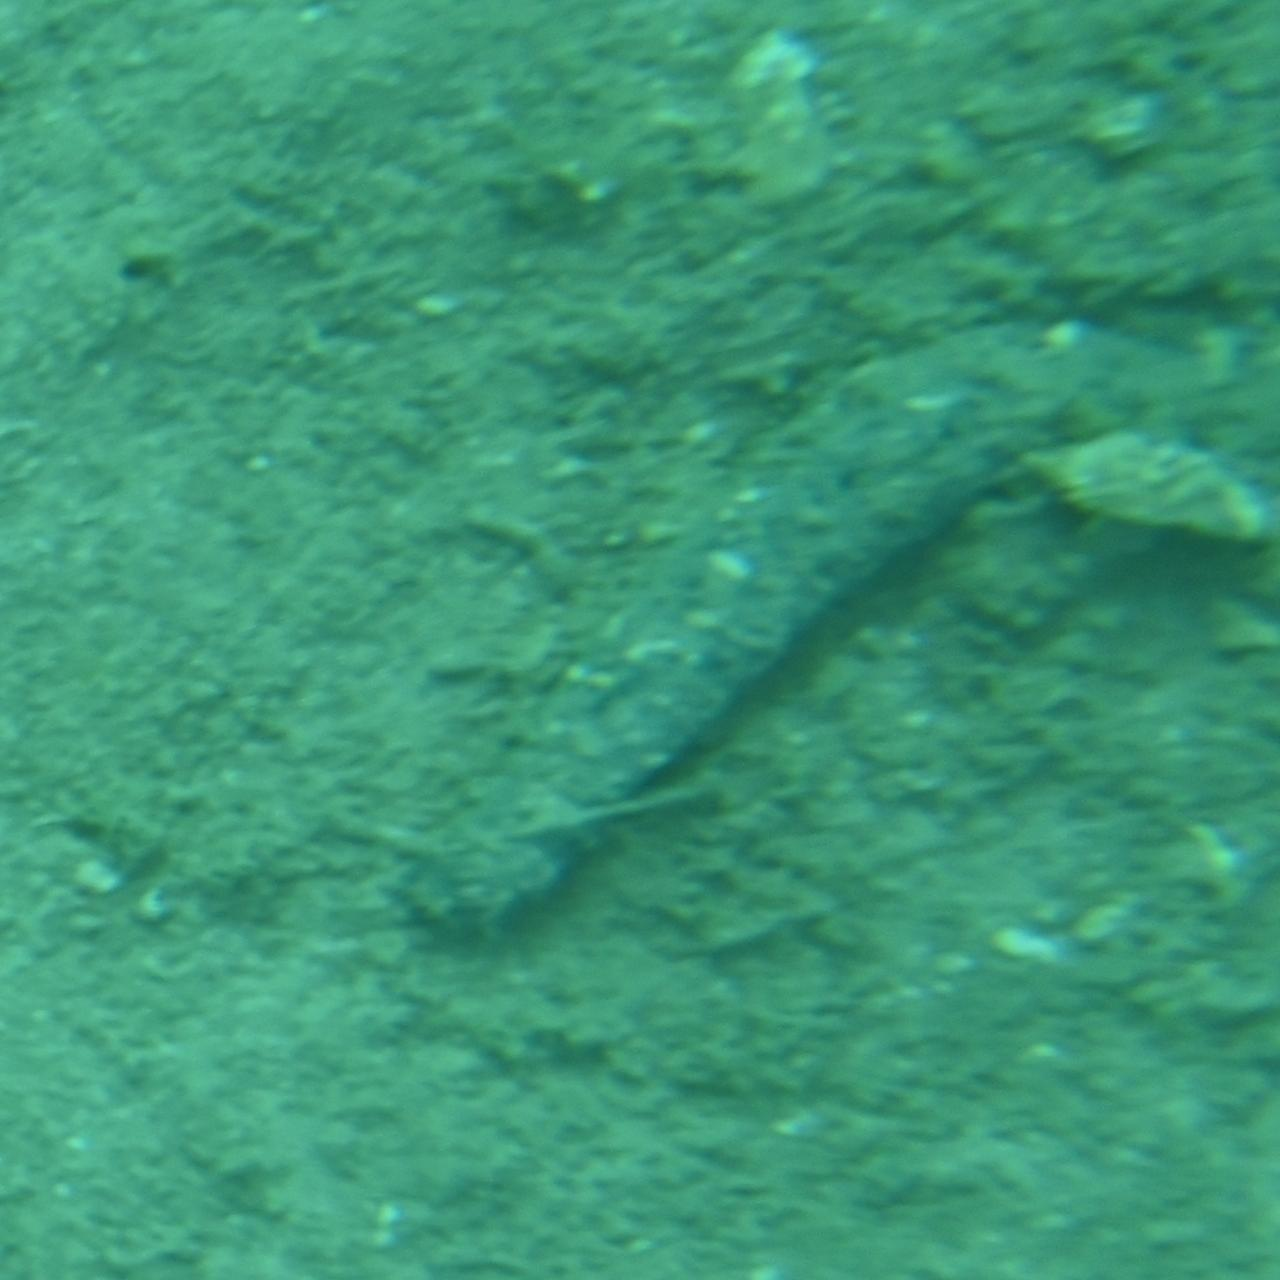Holothuria tubulosa: (382, 313, 1194, 967)
